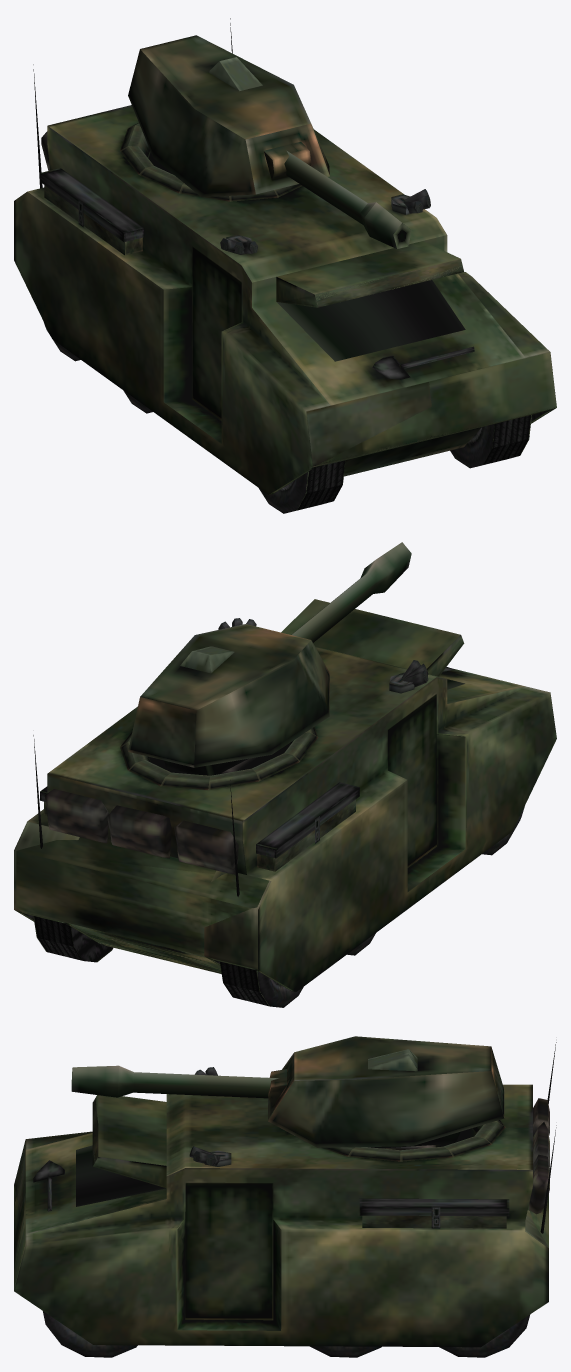
The model's file is panzer.fbx.
The picture shows the model from 3 angles, top to bottom: view 1: azimuth 30°, elevation 25°; view 2: azimuth 150°, elevation 25°; view 3: azimuth 270°, elevation 25°; orthographic projection. The views are drawn at different scales.
Visible parts, largest first — view 1: panzer; view 2: panzer; view 3: panzer.
Part boxes in pixels (left/top/right/bottom): panzer: left=14, top=18, right=556, bottom=513; panzer: left=14, top=542, right=556, bottom=1007; panzer: left=14, top=1036, right=556, bottom=1357.
Bounding box in the file's own units: 316 × 362 × 679.
Materials: 1 (1 with a texture image).
